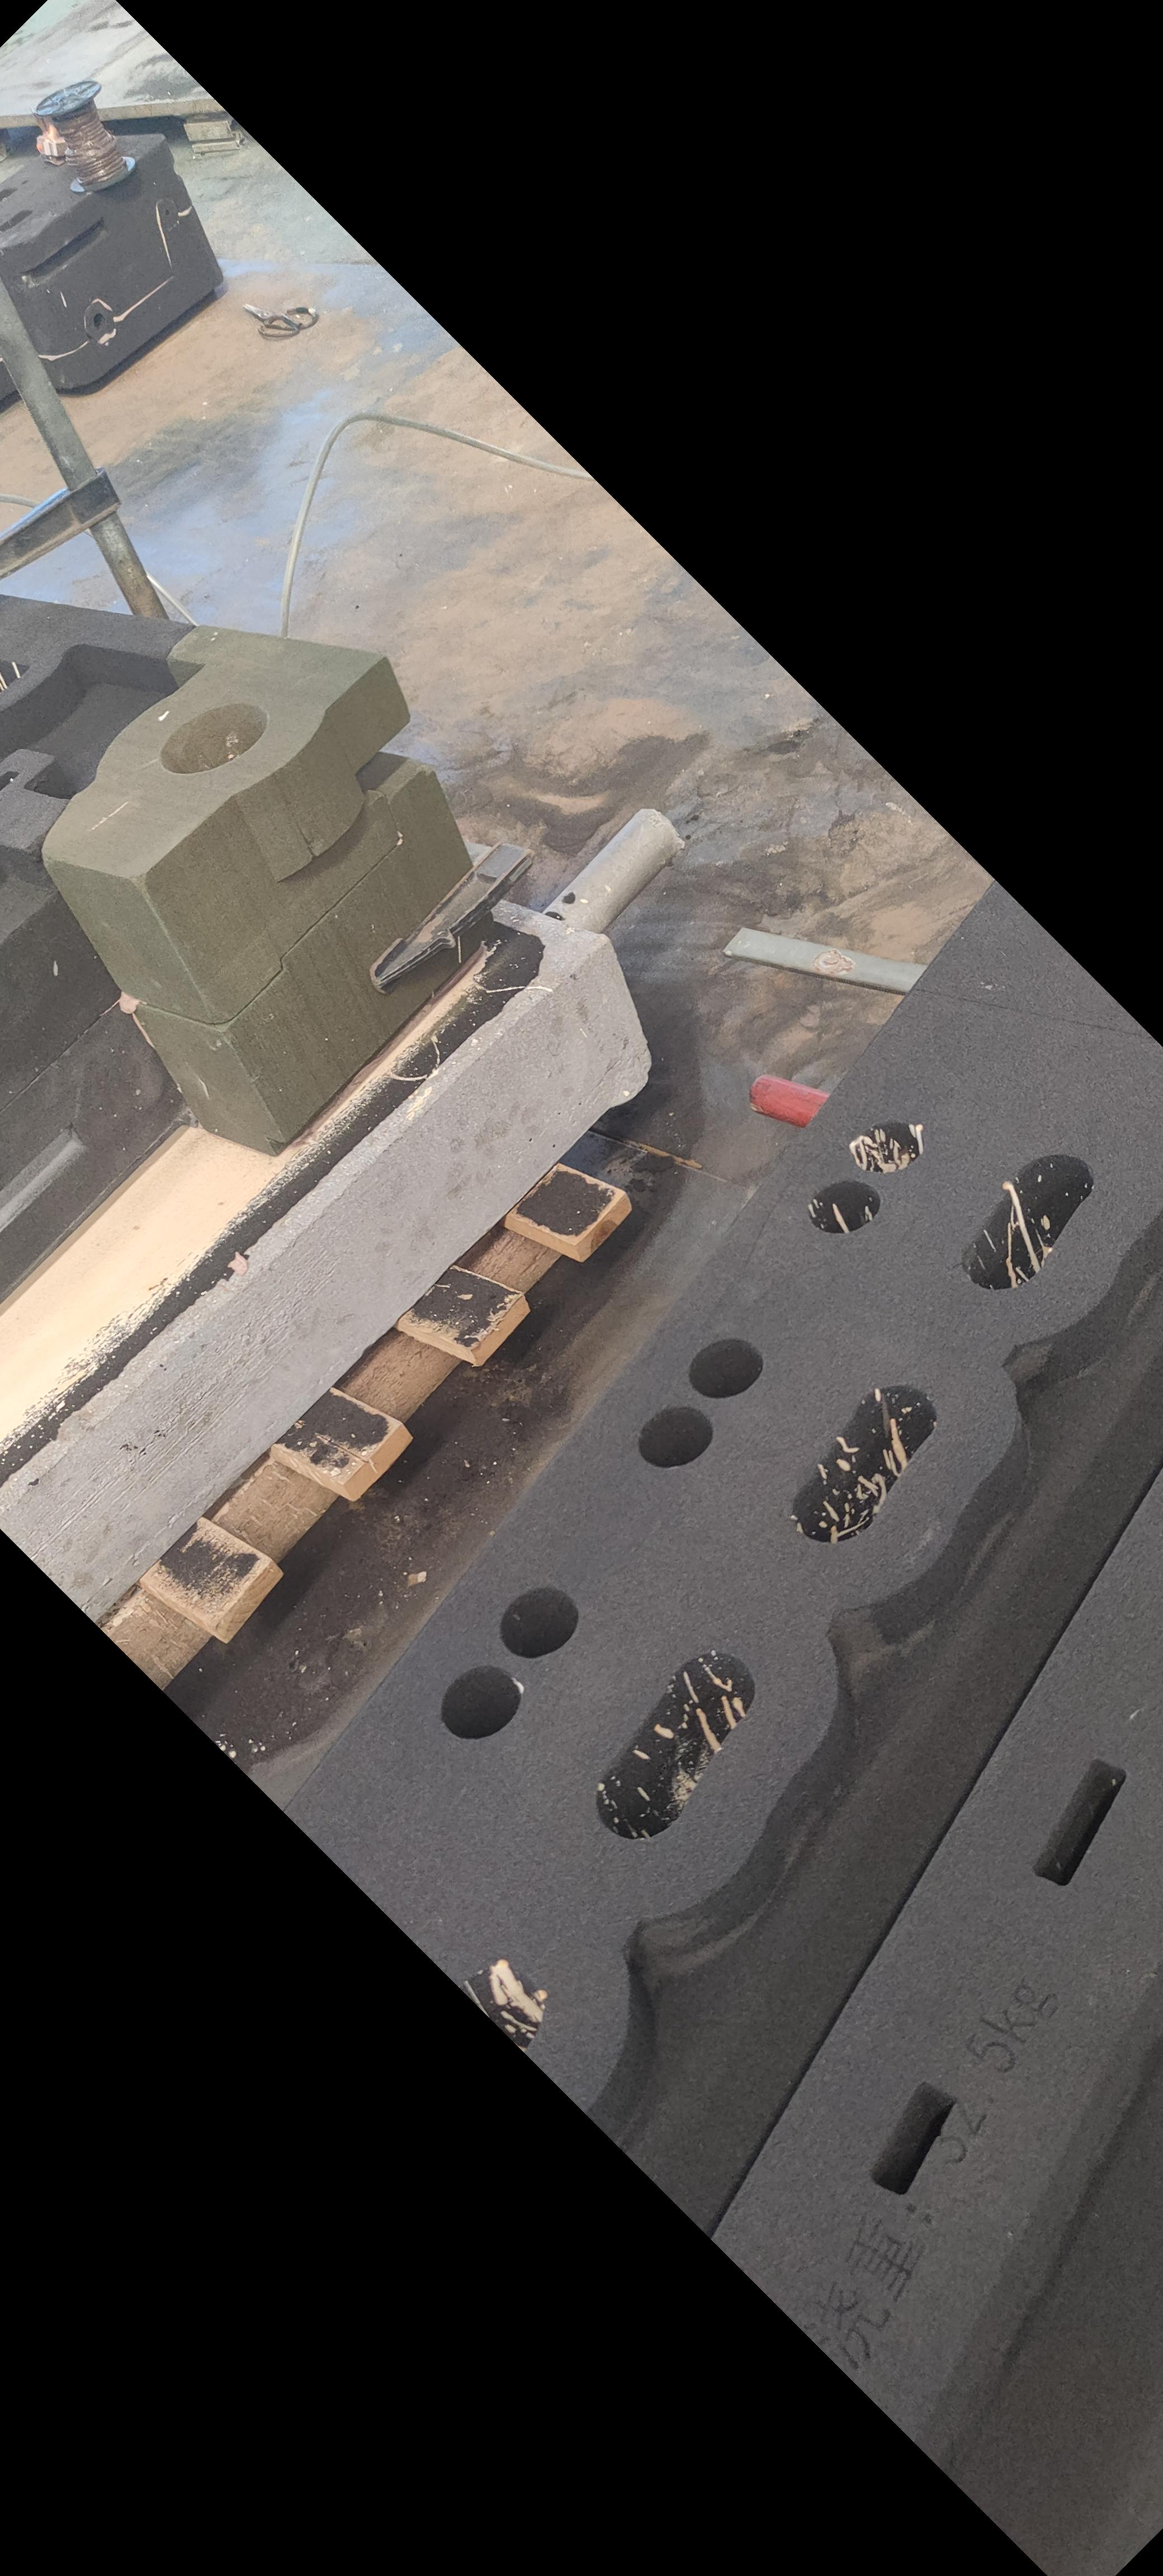pouring hole: (159, 703, 268, 775)
